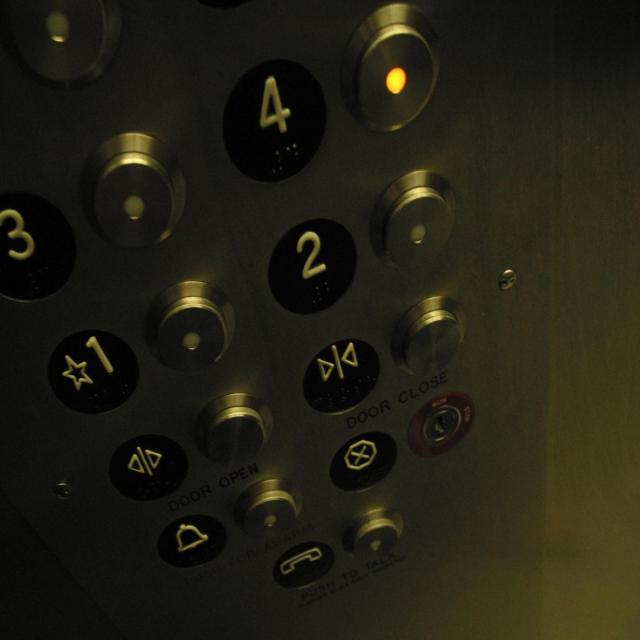2: (267, 217, 359, 313)
3: (0, 188, 77, 303)
4: (218, 56, 328, 184)
alarm: (156, 513, 227, 568)
call: (272, 542, 336, 589)
close: (303, 336, 381, 416)
empty: (342, 0, 443, 134), (78, 130, 187, 250), (0, 1, 123, 96), (366, 170, 456, 275), (144, 279, 238, 375), (192, 388, 274, 469), (391, 292, 468, 378), (230, 476, 303, 543), (343, 505, 404, 563)
keyhole: (406, 392, 476, 458)
open: (107, 433, 189, 502)
s1: (46, 328, 141, 413)
stop: (329, 429, 400, 490)
